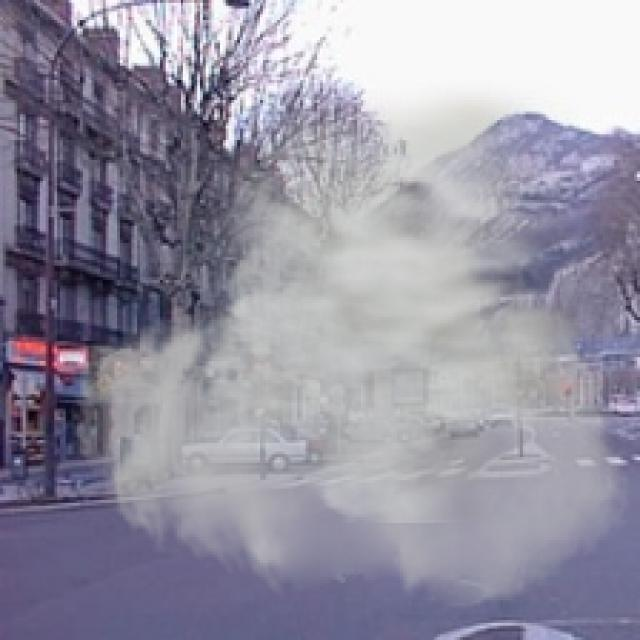Smoke: (68, 79, 634, 612)
